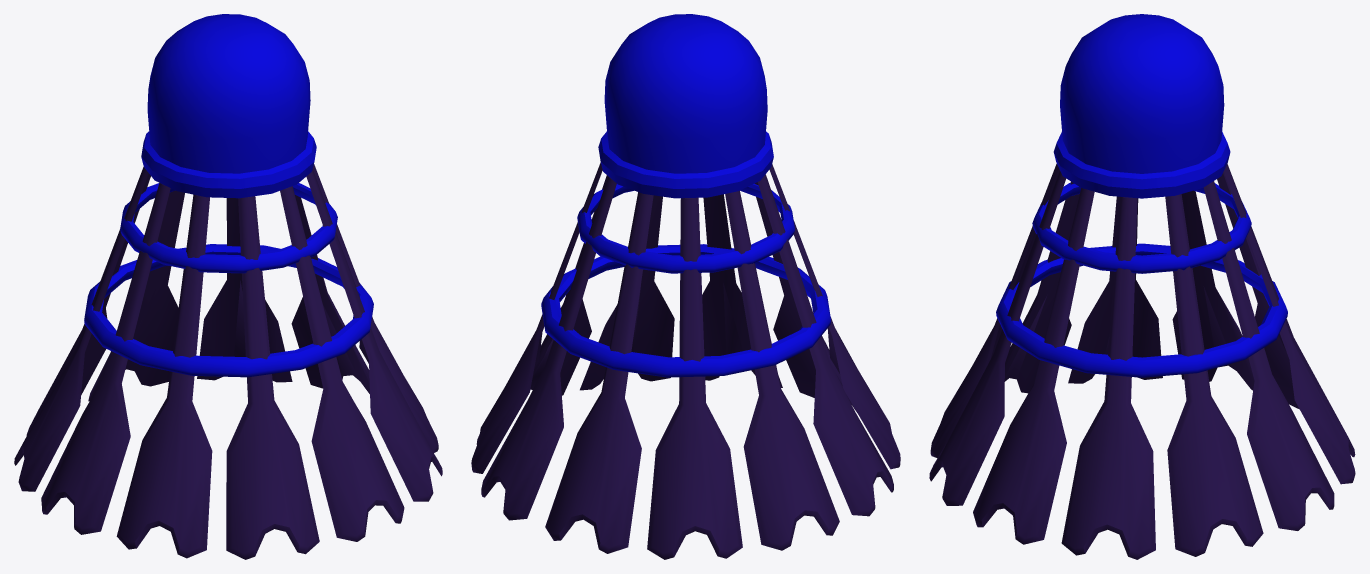
File: Shuttlecock.FBX
3 views of the same model, side by side, from view 1: azimuth 30°, elevation 25°; view 2: azimuth 150°, elevation 25°; view 3: azimuth 270°, elevation 25° (orthographic).
Parts seen in each view (by area): view 1: Shuttlecock; view 2: Shuttlecock; view 3: Shuttlecock.
Boxes of the visible parts, bbox=[...] form: Shuttlecock: bbox=[14, 14, 442, 559]; Shuttlecock: bbox=[471, 14, 900, 559]; Shuttlecock: bbox=[929, 14, 1355, 559].
Bounding box in the file's own units: 893 × 887 × 1018.
